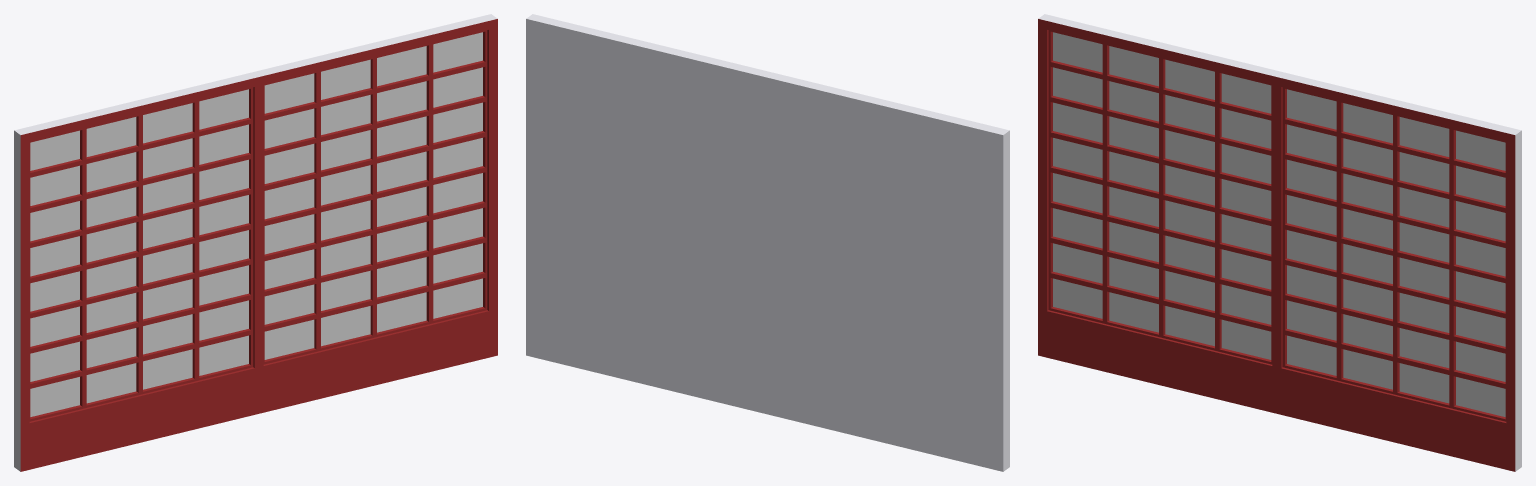
Rendered from Asian_Prop_Building_Modular_Wall_Paper_Screen_01.FBX.
3 renders of one model, left to right at view 1: azimuth 30°, elevation 25°; view 2: azimuth 150°, elevation 25°; view 3: azimuth 330°, elevation 25°, orthographic.
Visible parts, largest first — view 1: Asian_Prop_Building_Modular_Wall_Paper_Screen_01; view 2: Asian_Prop_Building_Modular_Wall_Paper_Screen_01; view 3: Asian_Prop_Building_Modular_Wall_Paper_Screen_01.
Boxes of the visible parts, left/top/right/bottom form: Asian_Prop_Building_Modular_Wall_Paper_Screen_01: left=14, top=14, right=497, bottom=471; Asian_Prop_Building_Modular_Wall_Paper_Screen_01: left=526, top=14, right=1009, bottom=471; Asian_Prop_Building_Modular_Wall_Paper_Screen_01: left=1038, top=14, right=1521, bottom=471.
Size of the model in its own units: 5167 by 3485 by 123.
